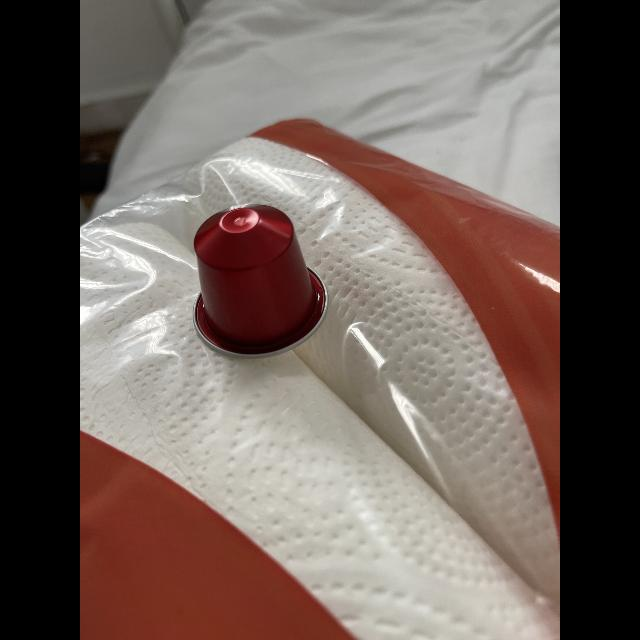intact_capsule: (166, 204, 348, 366)
